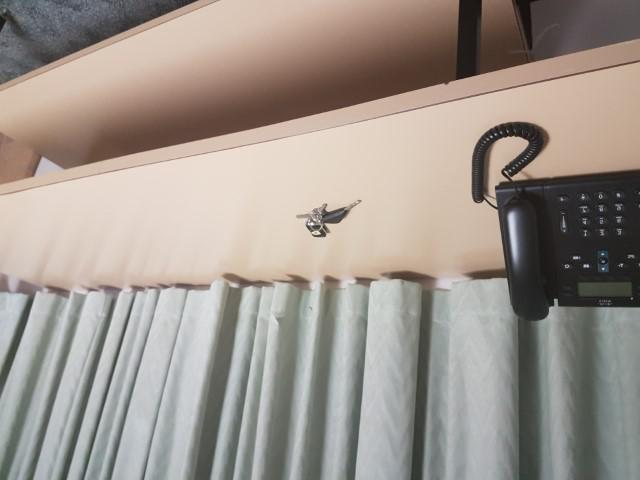key: (320, 199, 361, 222)
